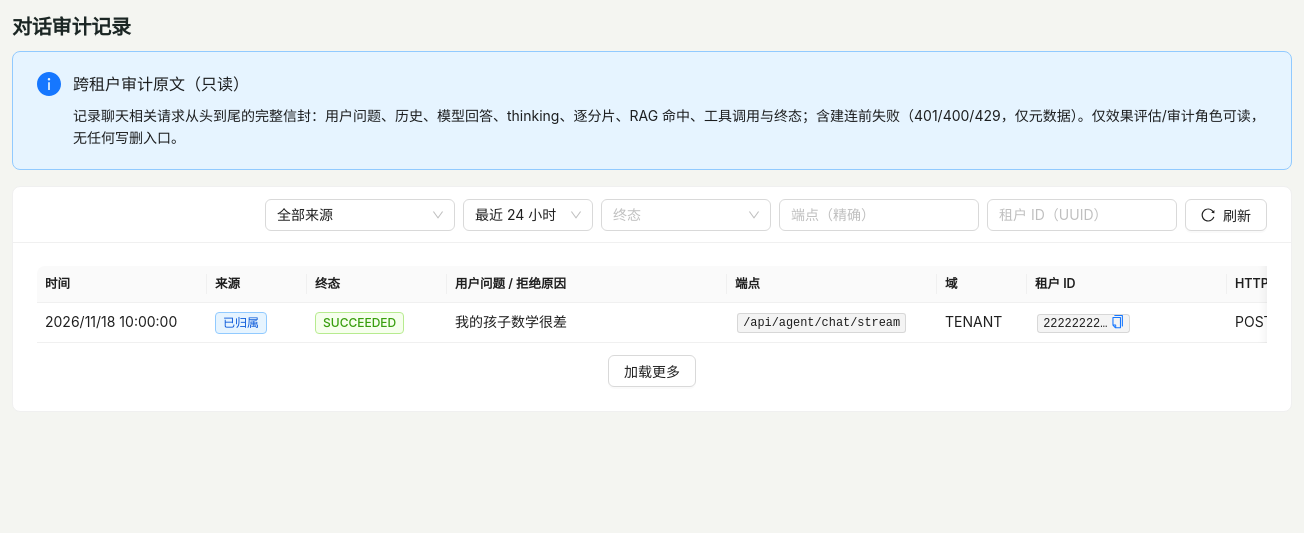
Test: 对话审计记录查询页 › 翻页失败只显示分页附近的错误，不污染首屏全局 error
Check: the text "我的孩子数学很差" is shown, box [455,311,567,333]
Click the button "加载更多": (652, 371) [608,355,696,387]
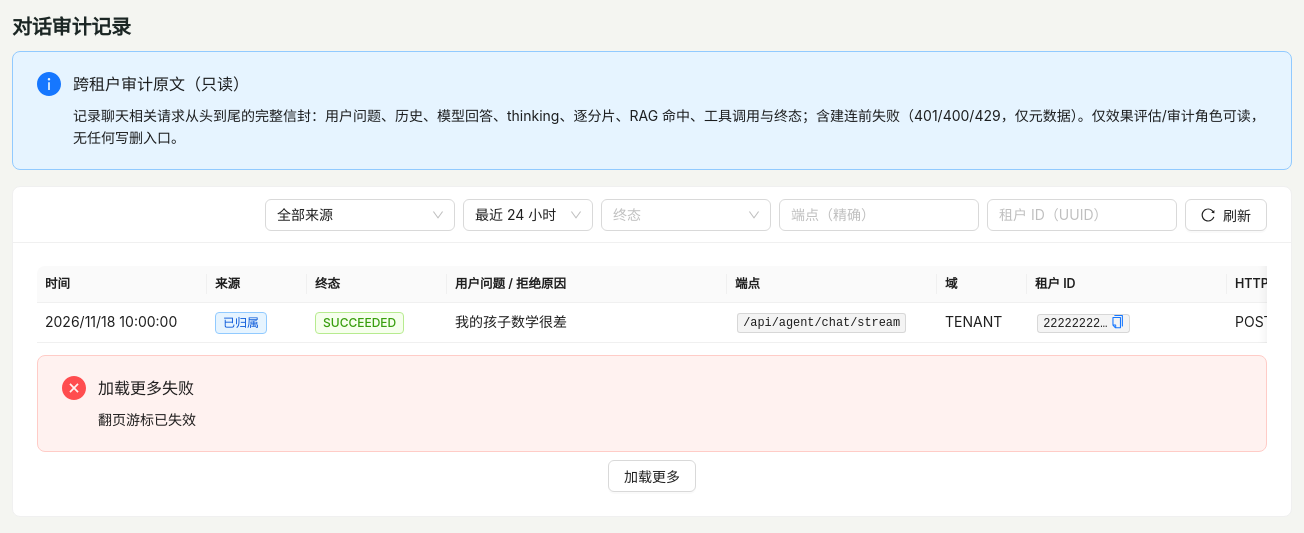
Check: the text "翻页游标已失效" is shown, box [98,411,196,428]
Check: the text "加载更多失败" is shown, box [98,378,194,398]
